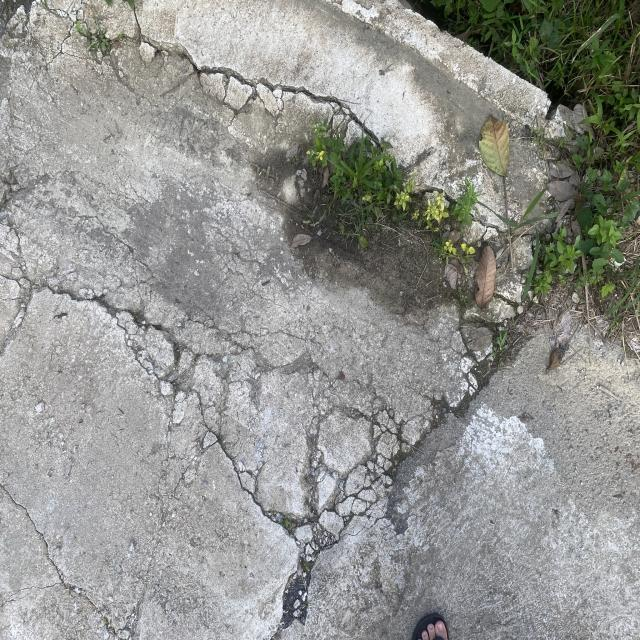Pothole: (89, 267, 433, 609), (88, 2, 398, 156)
